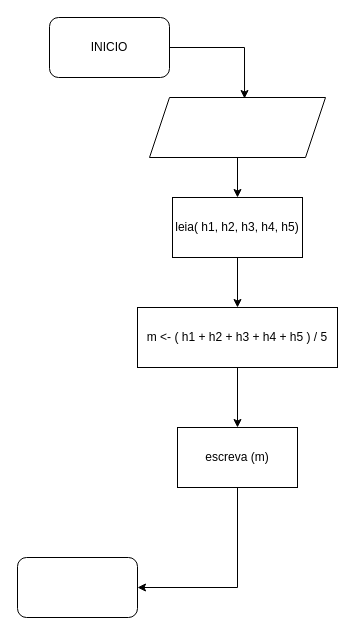
The diagram is 355 pixels wide and 635 high, and some of its shapes have lost their labels. The centre of each missing label's shape, as x and y in pixels:
FIM: the point at 77,587
h1, h2, h3, h4, h5, m : real: the point at 237,127
